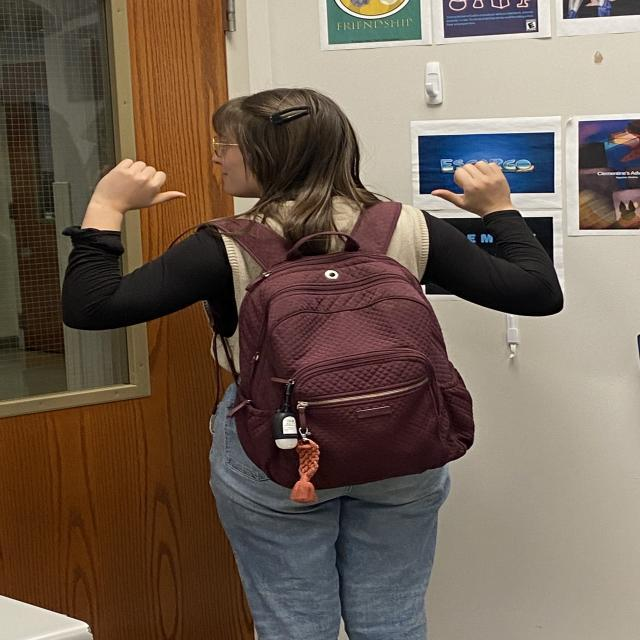Backpacks: (235, 258, 474, 482)
